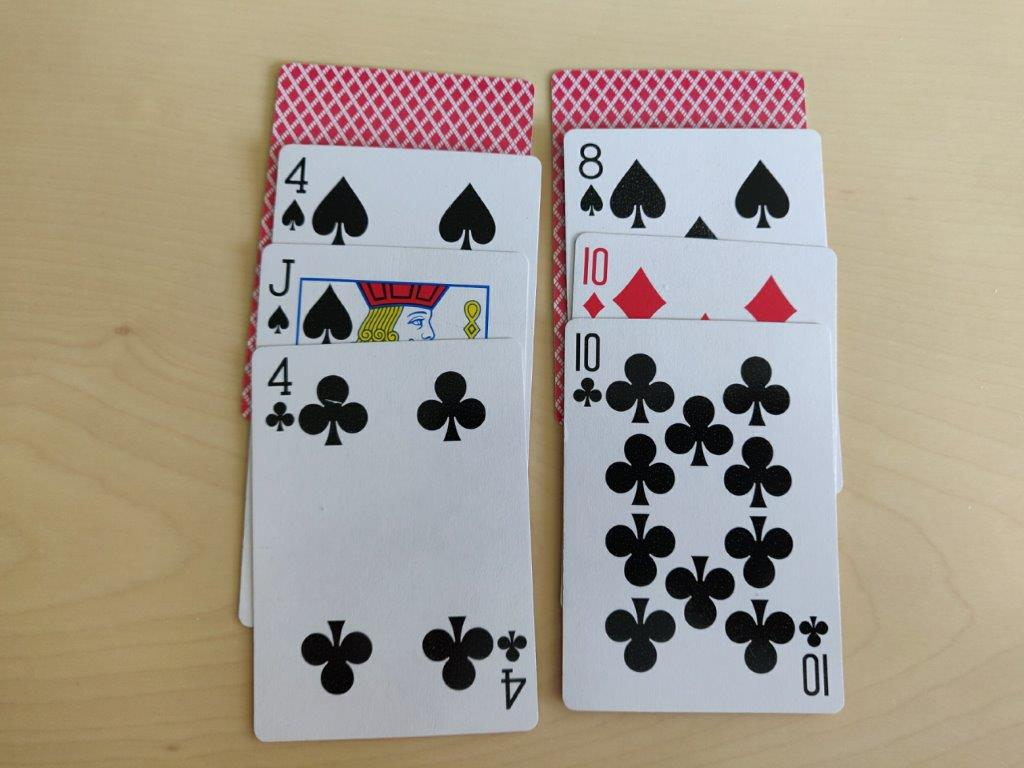10C: (571, 325, 604, 411)
10D: (572, 242, 613, 322)
4C: (262, 355, 299, 440)
4S: (279, 154, 312, 241)
8S: (572, 139, 608, 226)
BACK: (272, 61, 535, 155), (543, 60, 817, 132)
JS: (264, 253, 300, 341)
